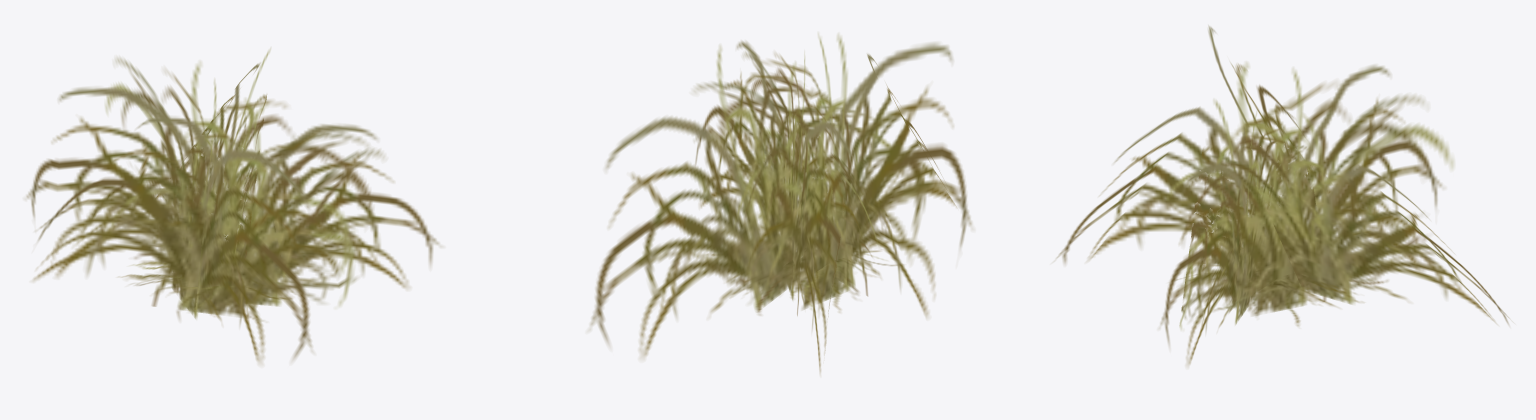
The model's file is grass_dry.glb.
3 views of the same model, side by side, from view 1: azimuth 30°, elevation 25°; view 2: azimuth 150°, elevation 25°; view 3: azimuth 270°, elevation 25° (orthographic). The views are drawn at different scales.
Parts seen in each view (by area): view 1: Grass main dry; view 2: Grass main dry; view 3: Grass main dry.
Boxes of the visible parts, box(x1,y1,x2,y2) form: Grass main dry: box(25, 48, 442, 362); Grass main dry: box(588, 33, 972, 372); Grass main dry: box(1054, 25, 1509, 365).
Size of the model in its own units: 0.3406 by 0.2512 by 0.4127.
1 material, 1 textured.
